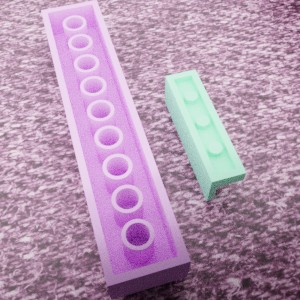lego: (41, 0, 190, 300), (164, 69, 246, 201)
